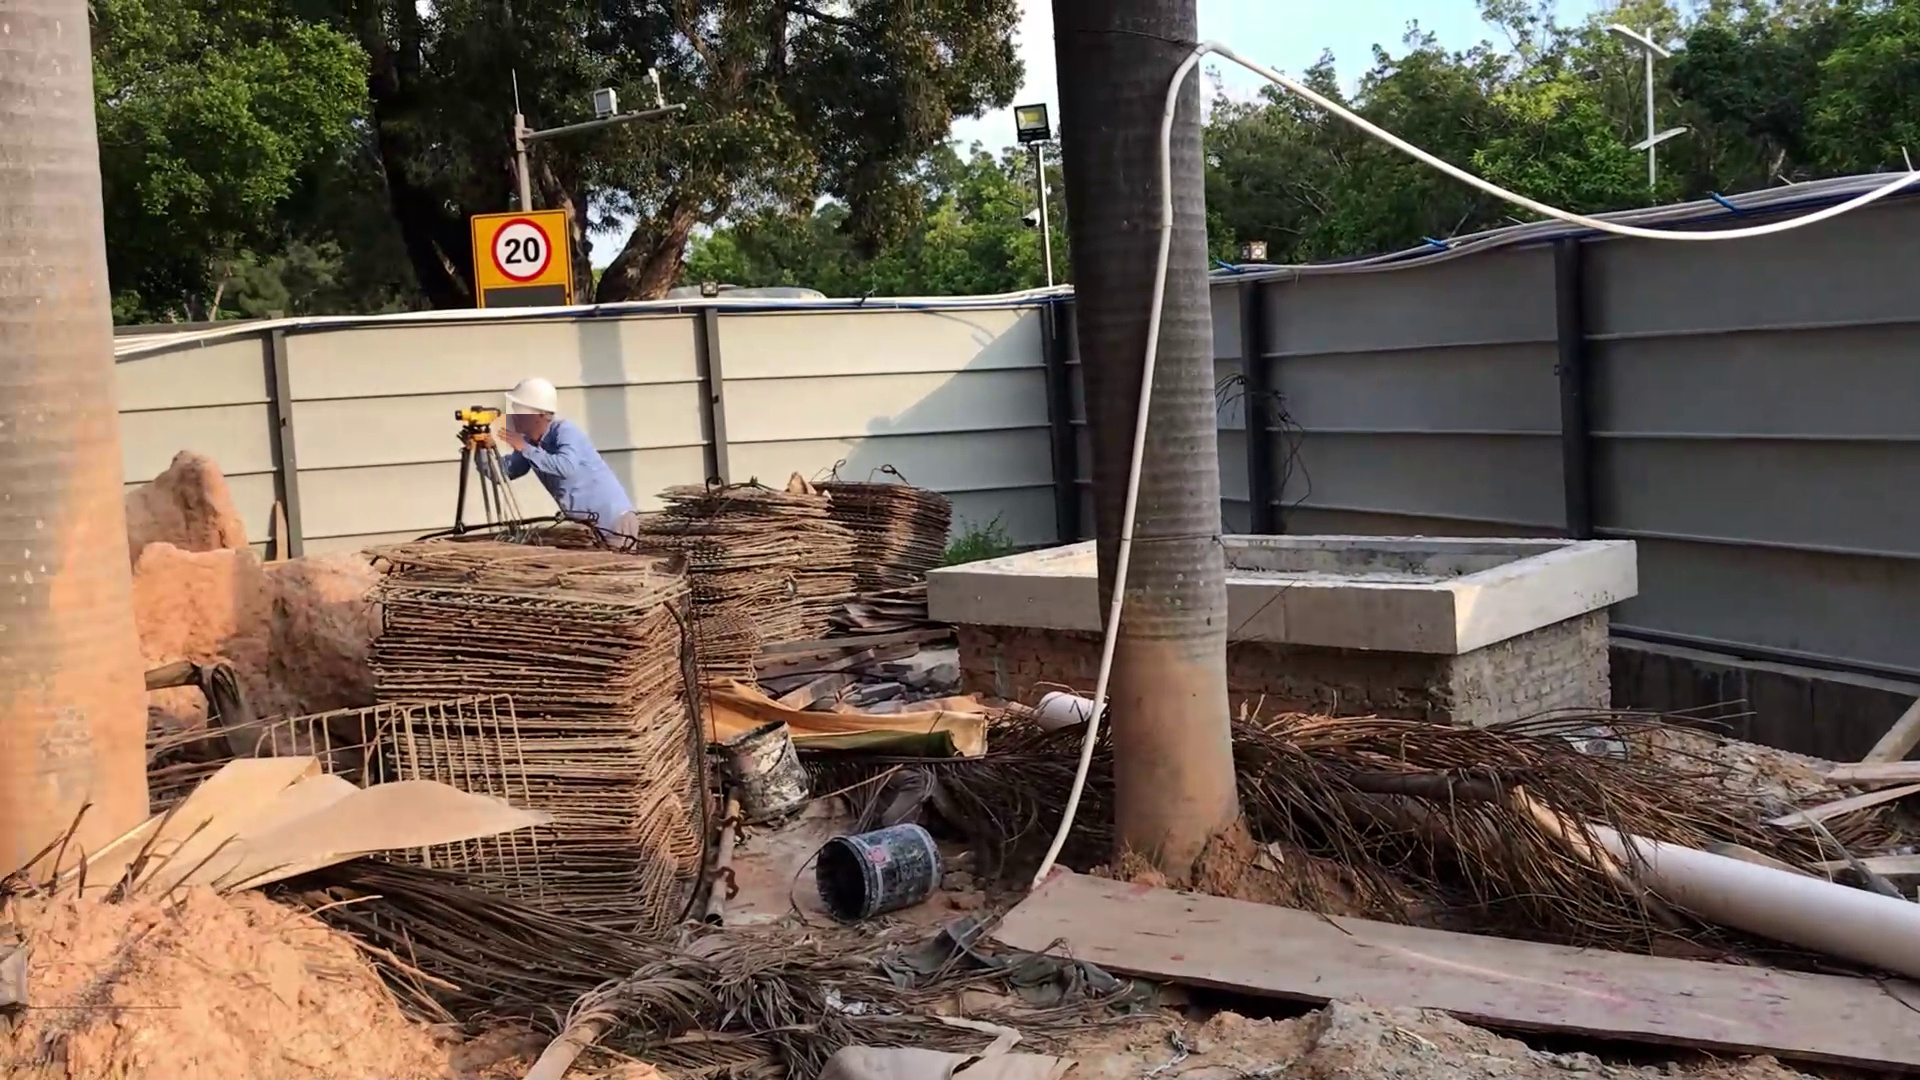helmet: (501, 377, 562, 421)
person: (467, 377, 643, 550)
slogan: (471, 209, 575, 288)
